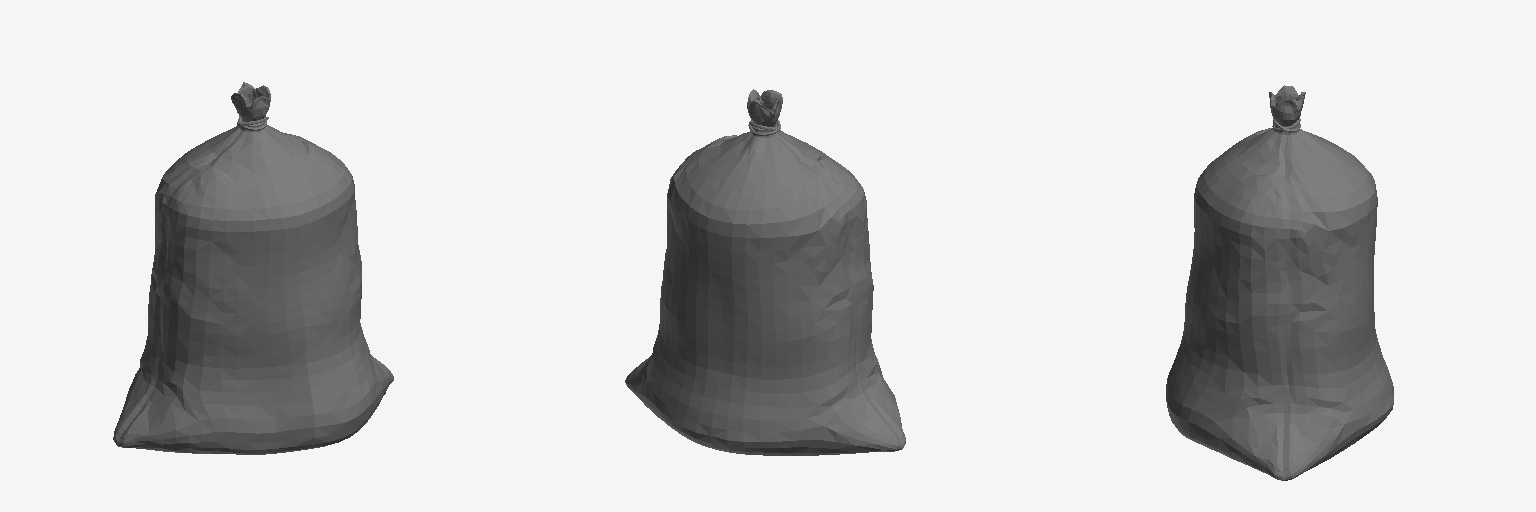
File: Closed_Burlap_Sack_OBJ.obj
3 renders of one model, left to right at view 1: azimuth 30°, elevation 25°; view 2: azimuth 150°, elevation 25°; view 3: azimuth 270°, elevation 25°, orthographic.
Visible parts, largest first — view 1: Closed_Burlap_Sack1; view 2: Closed_Burlap_Sack1; view 3: Closed_Burlap_Sack1.
Part boxes in pixels (x1,y1,x2,y2): Closed_Burlap_Sack1: (113,82,393,454); Closed_Burlap_Sack1: (625,89,905,455); Closed_Burlap_Sack1: (1166,85,1393,480).
Size of the model in its own units: 44.5 by 50.82 by 31.98.